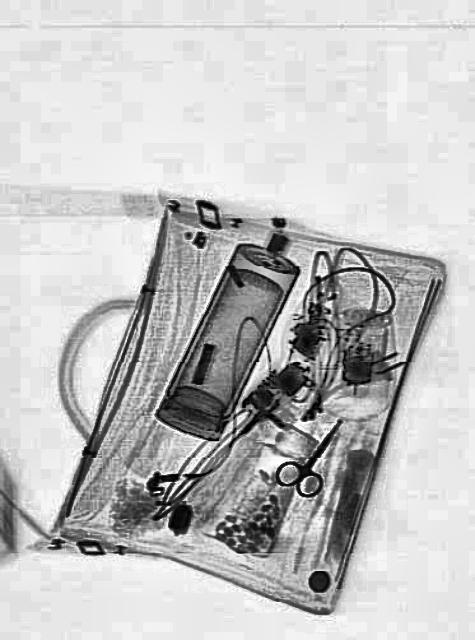Scissors: (270, 400, 355, 510)
